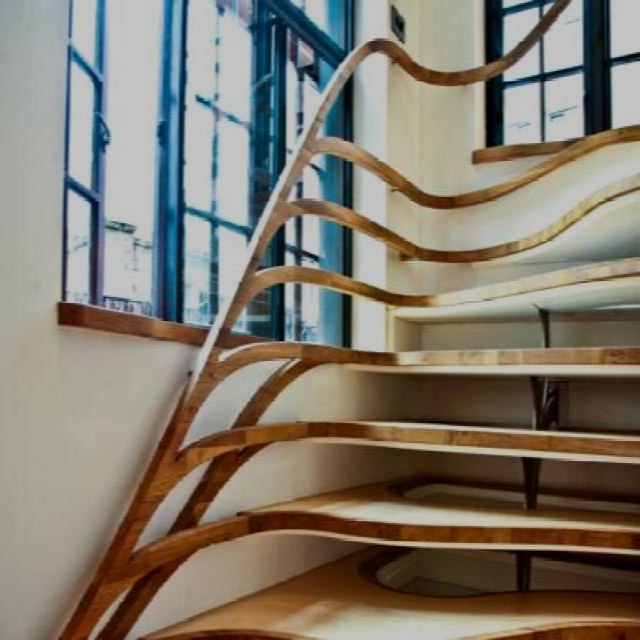stair: (18, 24, 640, 639)
